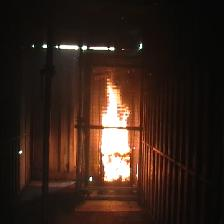fire: (100, 75, 134, 182)
